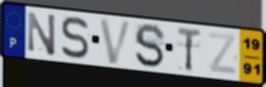N: (26, 10, 57, 58)
S: (133, 22, 167, 69), (60, 15, 91, 61)
T: (176, 26, 203, 73)
V: (97, 17, 135, 66)
Z: (206, 30, 239, 77)
